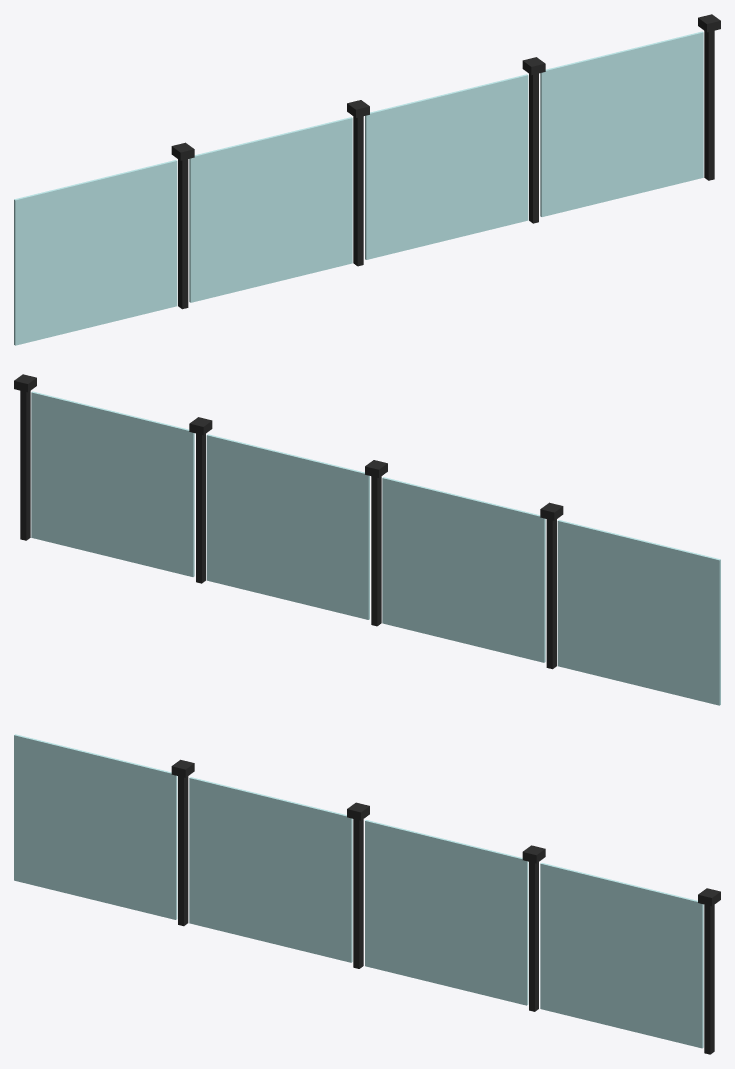
File: Balcony.003.fbx
3 views of the same model, one above another, from view 1: azimuth 30°, elevation 25°; view 2: azimuth 150°, elevation 25°; view 3: azimuth 330°, elevation 25° (orthographic).
Visible parts, largest first — view 1: Balcony.003; view 2: Balcony.003; view 3: Balcony.003.
Part boxes in pixels (<box>): Balcony.003: <box>14,14,720,345</box>; Balcony.003: <box>14,374,720,705</box>; Balcony.003: <box>14,734,720,1054</box>.
Bounding box in the file's own units: 2015 × 437 × 44.44.
